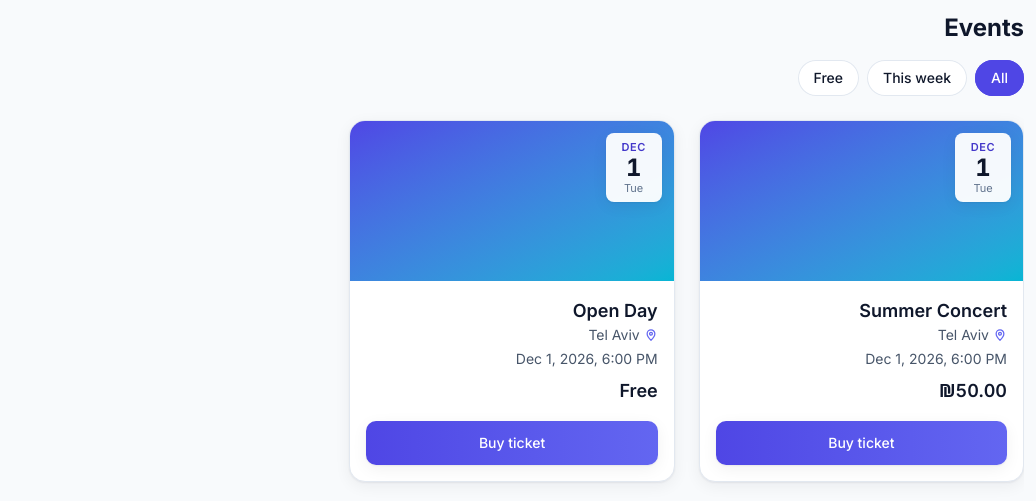
it: EventsPage › filter chips narrow the list, and an empty result offers 'show all'
The image size is (1036, 501).
Step 1. Click the button "Free" → coordinates (828, 78), box [798,60,859,96]
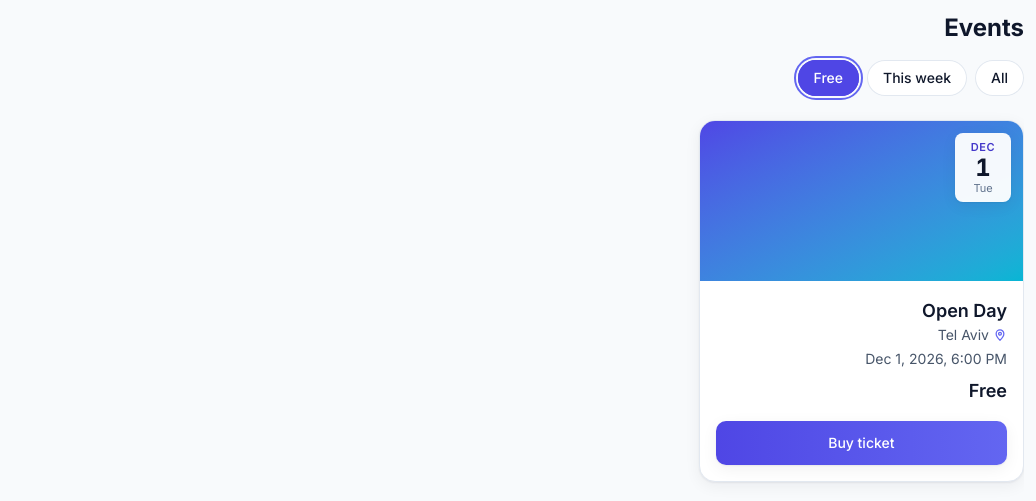
Expected: the text "Free" is shown, [969,380,1007,401]
Expected: the heading "Summer Concert" is gone
Step 2. Click the button "This week" → coordinates (917, 78), box [867,60,967,96]
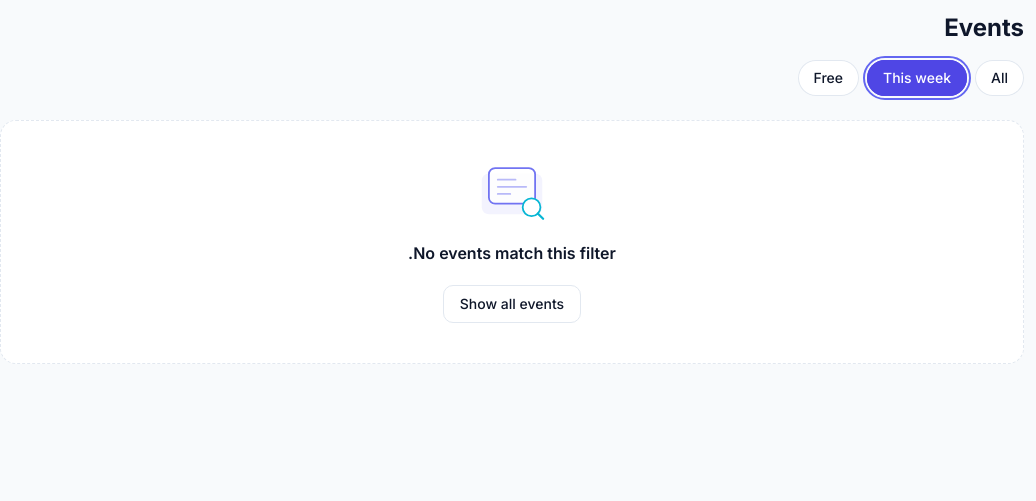
Expected: the heading "No events match this filter." is shown, [408,241,616,265]
Step 3. Click the button "Show all events" → coordinates (512, 304), box [443,285,581,323]
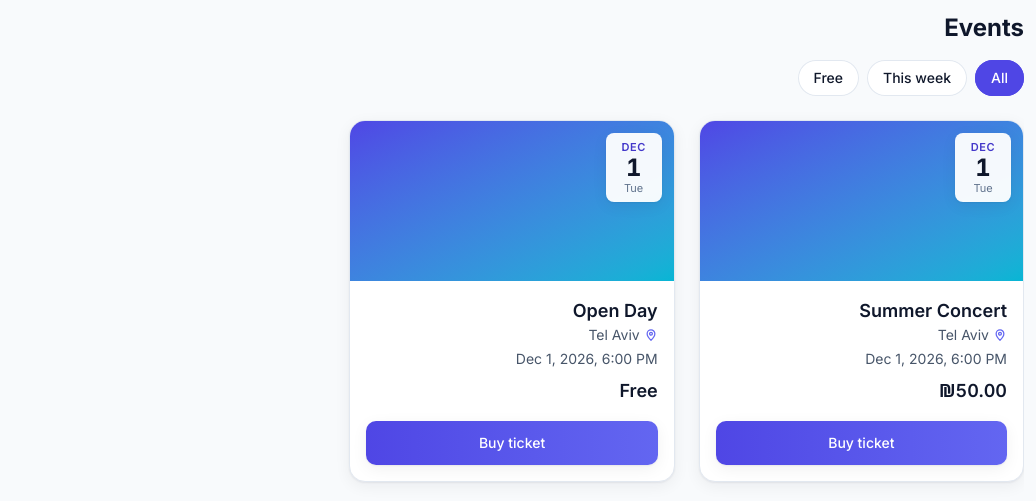
Expected: the heading "Summer Concert" is shown, [859,300,1007,321]
Expected: the heading "Open Day" is shown, [573,300,658,321]
